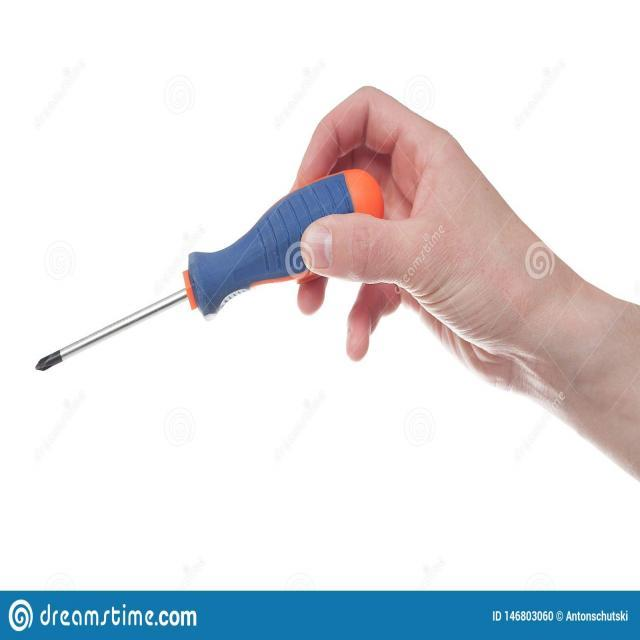screwdriver: (32, 165, 386, 373)
